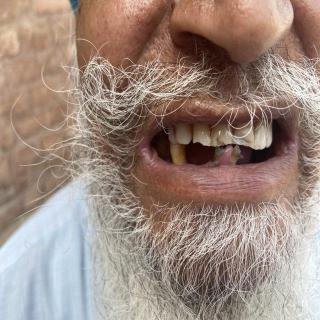stains: (210, 127, 232, 149)
